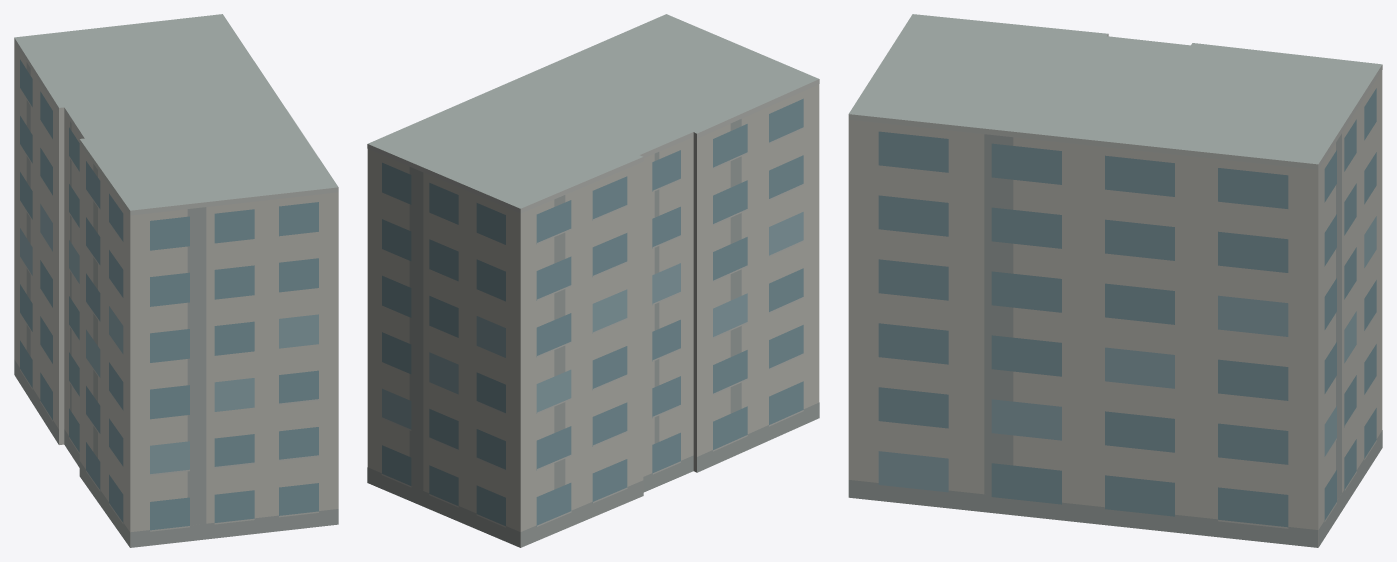
File: survey-upis-32803373.glb
3 renders of one model, left to right at view 1: azimuth 30°, elevation 25°; view 2: azimuth 150°, elevation 25°; view 3: azimuth 270°, elevation 25°, orthographic. The views are drawn at different scales.
Parts seen in each view (by area): view 1: survey-upis-32803373.tmp; view 2: survey-upis-32803373.tmp; view 3: survey-upis-32803373.tmp.
Boxes of the visible parts, x1,y1,x2,y2 form: survey-upis-32803373.tmp: [14, 14, 338, 547]; survey-upis-32803373.tmp: [367, 14, 819, 547]; survey-upis-32803373.tmp: [848, 14, 1382, 547].
Bounding box in the file's own units: 14.22 × 16.9 × 21.33.
